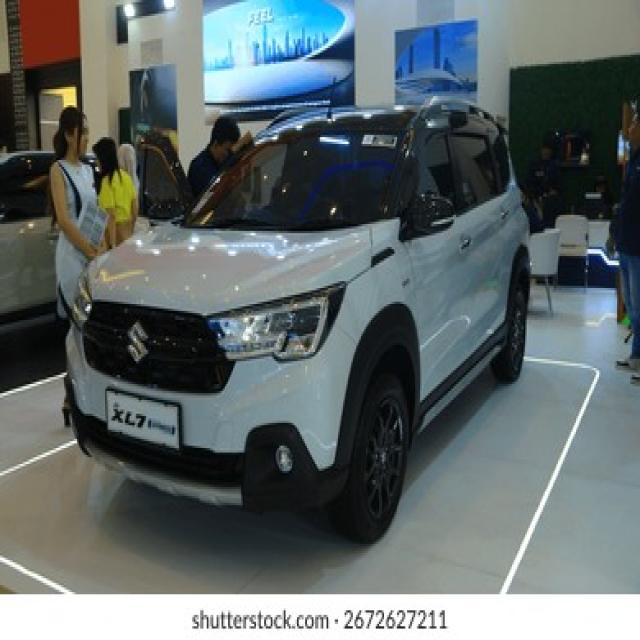seat: (126, 318, 150, 367)
